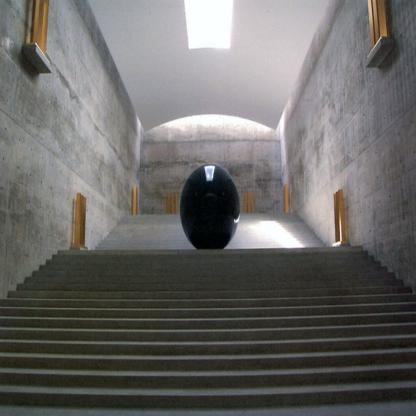Ball: (178, 164, 240, 250)
